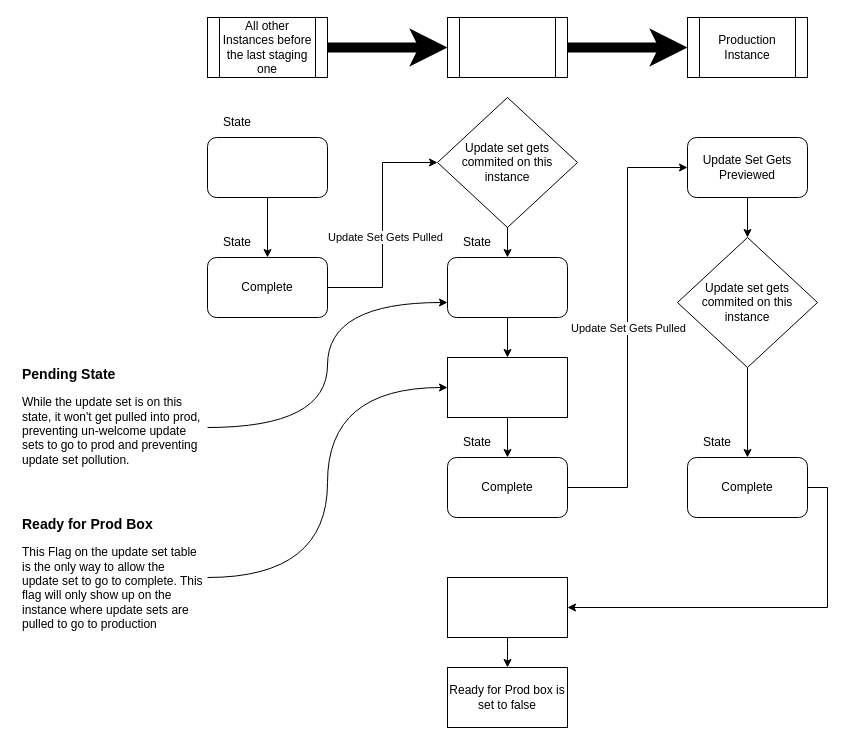
Image size: 853x745. Some labels were removed from this diagram. The shapes that lost their labels are listed below. From the top down, each one's box as (x1, y1, x2, y2) in pixels, then its label:
(446, 16, 568, 78): Last Instance Before Prod
(206, 136, 328, 198): In Progress
(446, 256, 568, 318): Pending Completion on this instance
(446, 356, 568, 418): Ready for Prod box is set to true
(446, 576, 568, 638): Completed on Prod Flag is set to true
